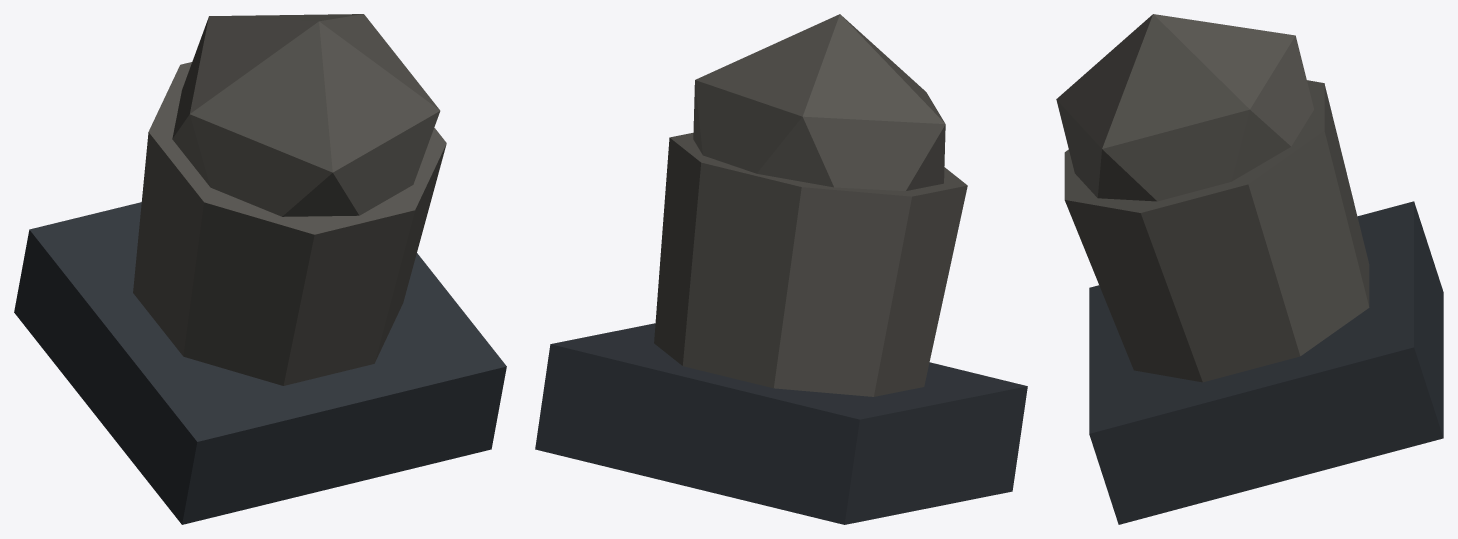
File: inf_v2_hocker_lower_leg.fbx
3 views of the same model, side by side, from view 1: azimuth 30°, elevation 25°; view 2: azimuth 150°, elevation 25°; view 3: azimuth 270°, elevation 25° (orthographic). The views are drawn at different scales.
Visible parts, largest first — view 1: inf_v2_hocker_lower_leg; view 2: inf_v2_hocker_lower_leg; view 3: inf_v2_hocker_lower_leg.
Part boxes in pixels (x1,y1,x2,y2): inf_v2_hocker_lower_leg: (14, 14, 506, 524); inf_v2_hocker_lower_leg: (535, 14, 1027, 524); inf_v2_hocker_lower_leg: (1056, 14, 1443, 524).
Size of the model in its own units: 99 by 138 by 111.
